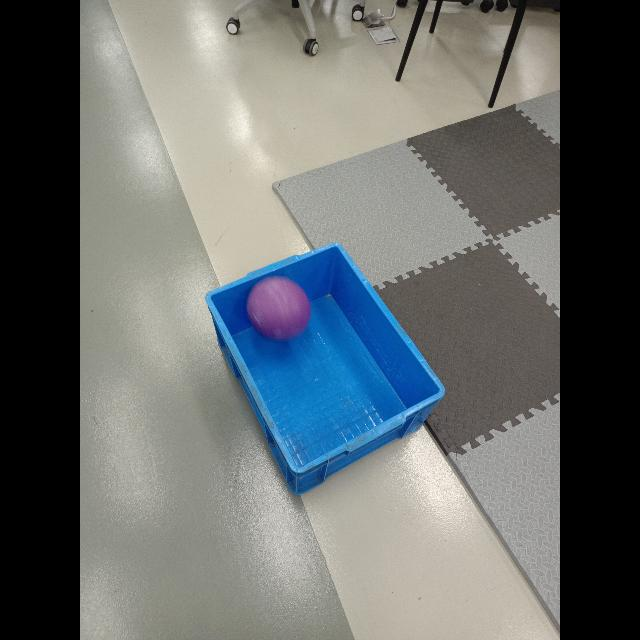P: (246, 277, 312, 337)
